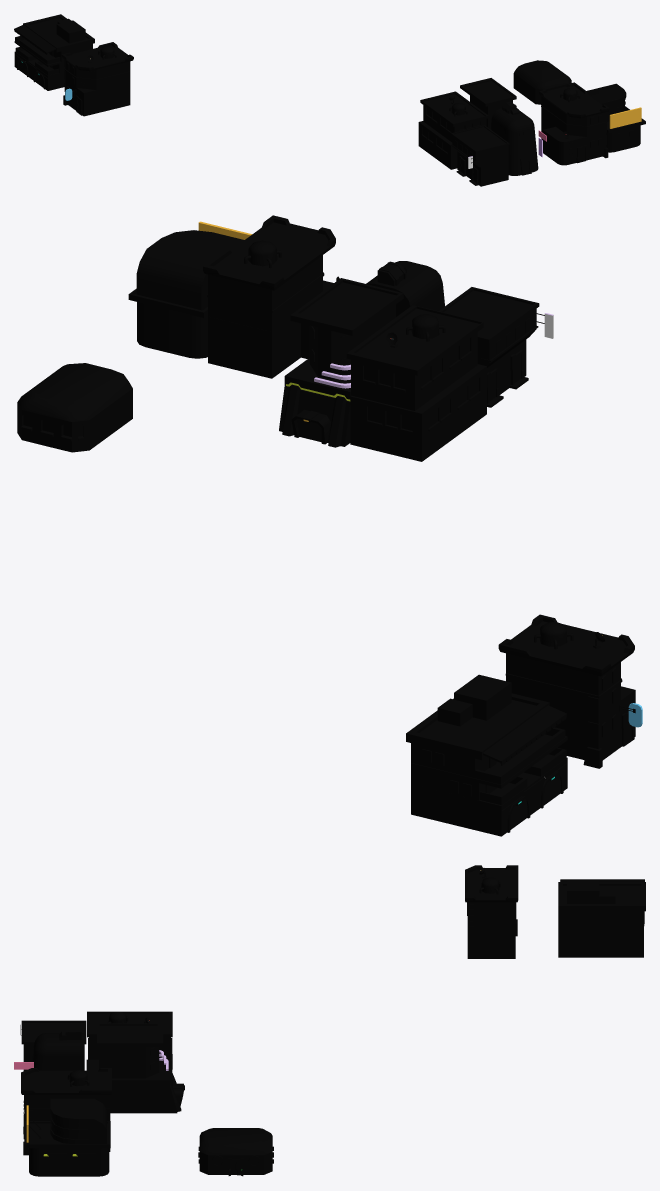
File: Plaza_05_Buildings.fbx
The picture shows the model from 3 angles, top to bottom: view 1: azimuth 30°, elevation 25°; view 2: azimuth 150°, elevation 25°; view 3: azimuth 270°, elevation 25°; orthographic projection. The views are drawn at different scales.
Parts seen in each view (by area): view 1: group2; view 2: group2; view 3: group2.
Part boxes in pixels (x1,y1,x2,y2): group2: [14, 14, 645, 186]; group2: [17, 215, 642, 836]; group2: [14, 865, 645, 1176].
Size of the model in its own units: 196 by 27.16 by 206.
